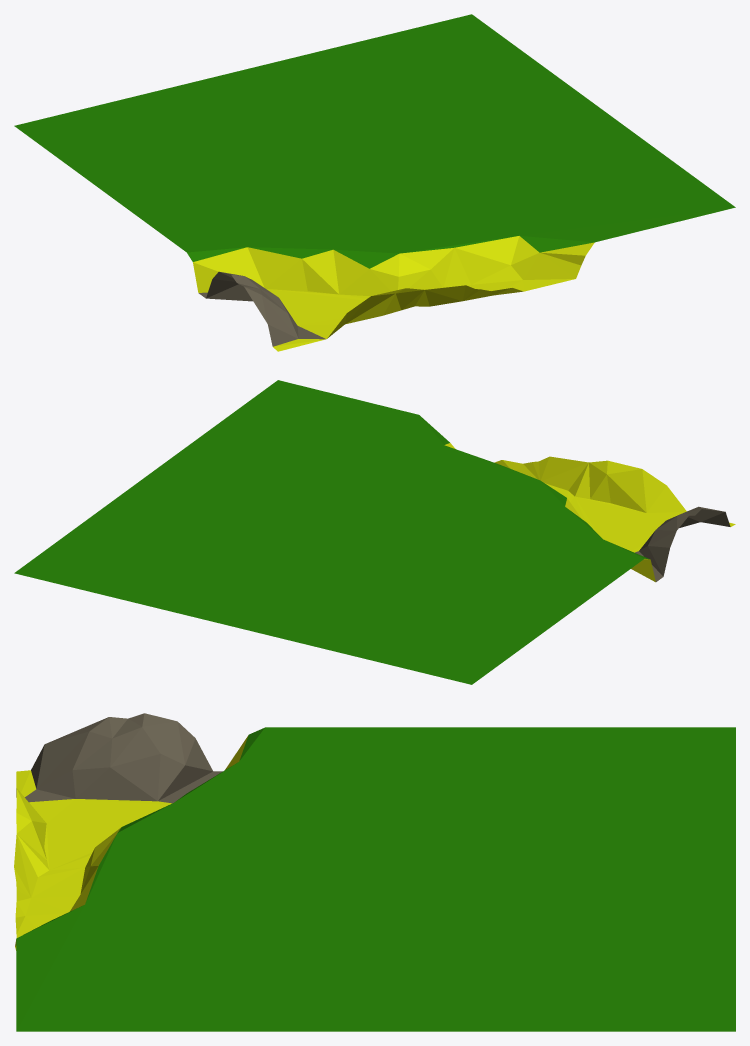
3 renders of one model, top to bottom at view 1: azimuth 30°, elevation 25°; view 2: azimuth 150°, elevation 25°; view 3: azimuth 270°, elevation 25°, orthographic. The views are drawn at different scales.
Parts seen in each view (by area): view 1: TerrainVeryHigh.007; view 2: TerrainVeryHigh.007; view 3: TerrainVeryHigh.007.
Part boxes in pixels (x1=…): TerrainVeryHigh.007: x1=14, y1=14, x2=735, y2=351; TerrainVeryHigh.007: x1=14, y1=380, x2=735, y2=684; TerrainVeryHigh.007: x1=14, y1=713, x2=735, y2=1031.
Size of the model in its own units: 1251 by 1253 by 112.
